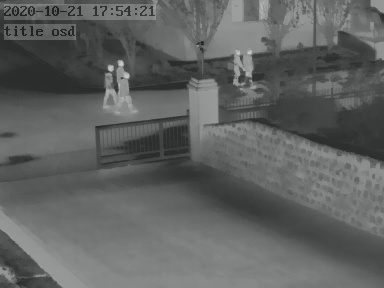person: (114, 60, 139, 114), (102, 64, 115, 110), (242, 48, 256, 87), (232, 48, 244, 85)
